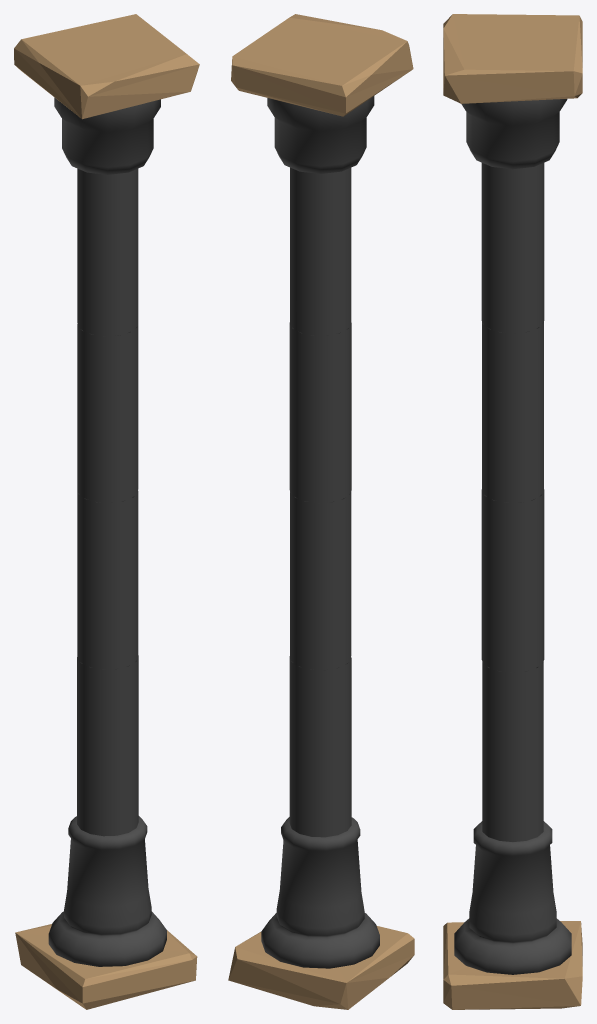
The model's file is SM_column_01.fbx.
3 renders of one model, left to right at view 1: azimuth 30°, elevation 25°; view 2: azimuth 150°, elevation 25°; view 3: azimuth 270°, elevation 25°, orthographic.
Visible parts, largest first — view 1: Cylinder424435; view 2: Cylinder424435; view 3: Cylinder424435.
Boxes of the visible parts, x1,y1,x2,y2 form: Cylinder424435: [14, 14, 199, 1009]; Cylinder424435: [228, 14, 414, 1009]; Cylinder424435: [443, 14, 582, 1009].
Bounding box in the file's own units: 28.3 × 209 × 28.13.
